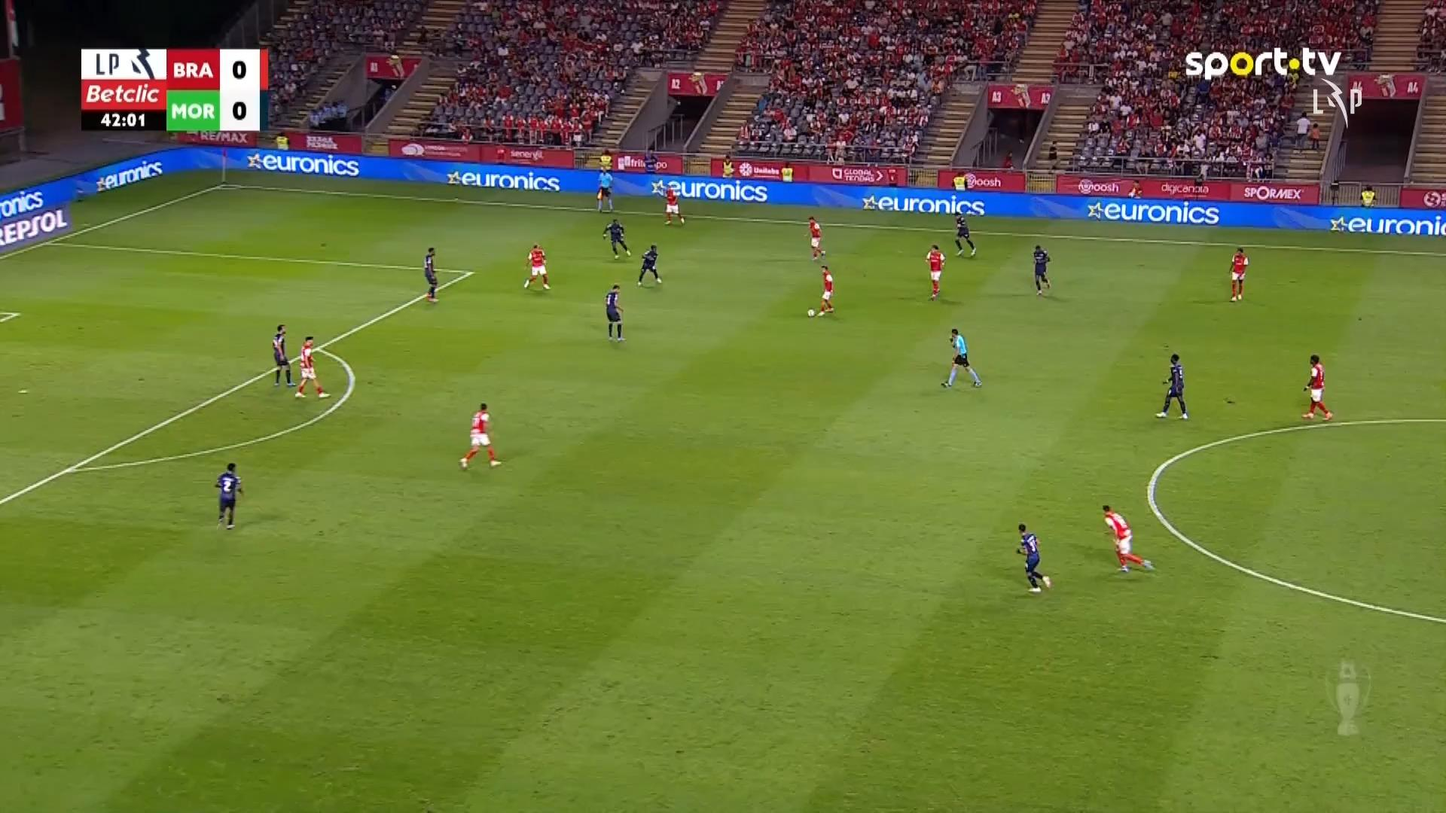ball: (807, 308, 814, 317)
player: (1102, 503, 1155, 573), (458, 401, 502, 470), (1015, 522, 1051, 592), (294, 335, 330, 399), (1155, 352, 1188, 419), (1301, 354, 1333, 420), (214, 461, 243, 529), (271, 324, 294, 387), (522, 242, 551, 290), (602, 217, 631, 259), (1228, 246, 1249, 301), (925, 243, 945, 300), (604, 284, 624, 341), (636, 243, 662, 286), (953, 210, 976, 257), (662, 182, 685, 225), (816, 264, 835, 316), (1032, 244, 1051, 295), (423, 246, 438, 302), (807, 215, 825, 261)
referee: (940, 327, 982, 388), (595, 166, 614, 213)
